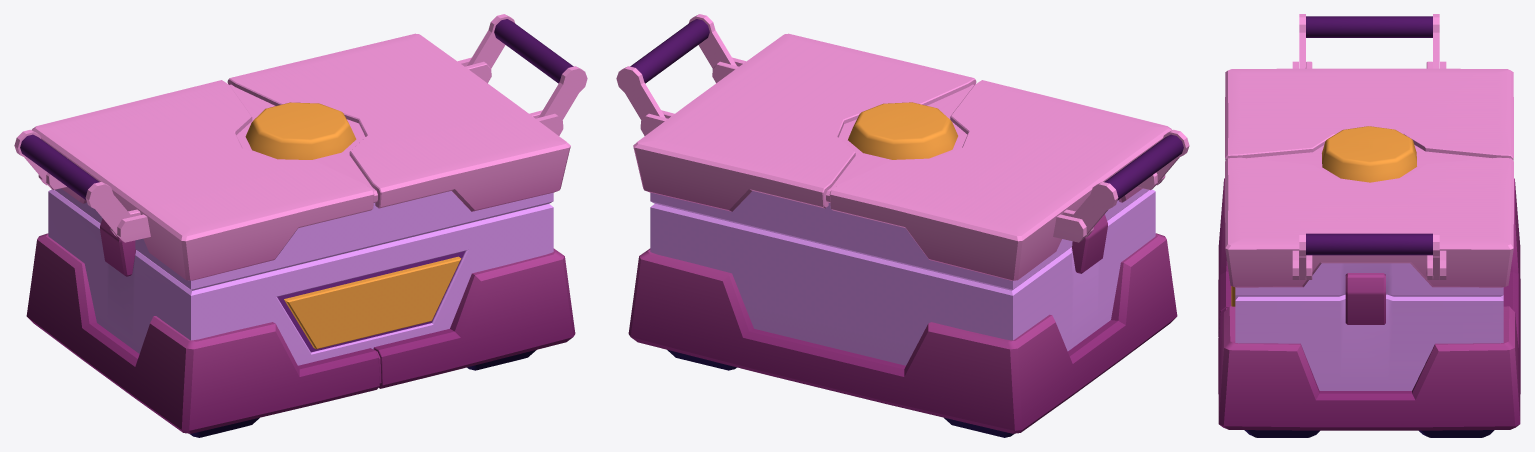
Rendered from SM_Coffre_01.fbx.
3 renders of one model, left to right at view 1: azimuth 30°, elevation 25°; view 2: azimuth 150°, elevation 25°; view 3: azimuth 270°, elevation 25°, orthographic. The views are drawn at different scales.
Visible parts, largest first — view 1: Coffre_01_Haut, Coffre_01_Bas; view 2: Coffre_01_Haut, Coffre_01_Bas; view 3: Coffre_01_Haut, Coffre_01_Bas.
Part boxes in pixels (box(x1,y1,x2,y2)): Coffre_01_Haut: box(14, 14, 587, 290); Coffre_01_Bas: box(26, 189, 575, 437); Coffre_01_Haut: box(616, 14, 1189, 290); Coffre_01_Bas: box(628, 189, 1177, 437); Coffre_01_Haut: box(1225, 14, 1513, 324); Coffre_01_Bas: box(1218, 178, 1520, 437).
Bounding box in the file's own units: 5.82 × 2.85 × 3.25.
